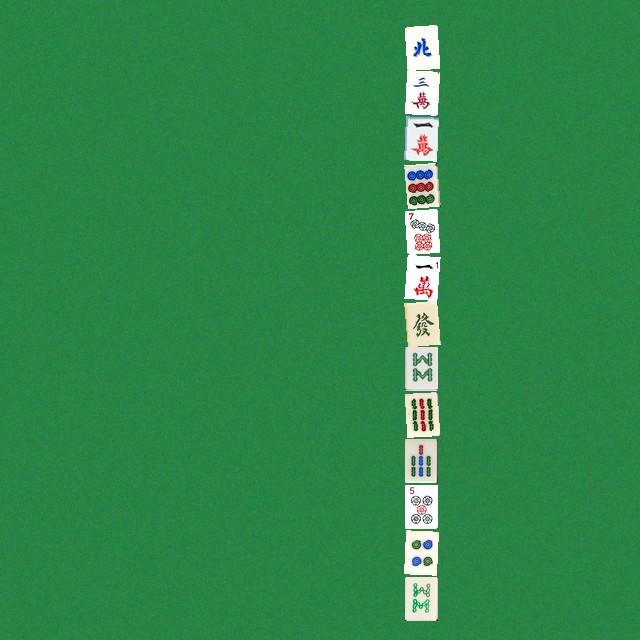tile: (404, 24, 437, 68), (404, 70, 437, 114), (404, 116, 437, 160), (404, 162, 437, 206), (404, 208, 437, 252), (404, 254, 437, 298), (404, 300, 437, 344), (404, 346, 437, 390), (404, 392, 437, 436), (404, 438, 437, 482), (404, 484, 437, 528), (404, 530, 437, 574), (404, 576, 437, 620)
